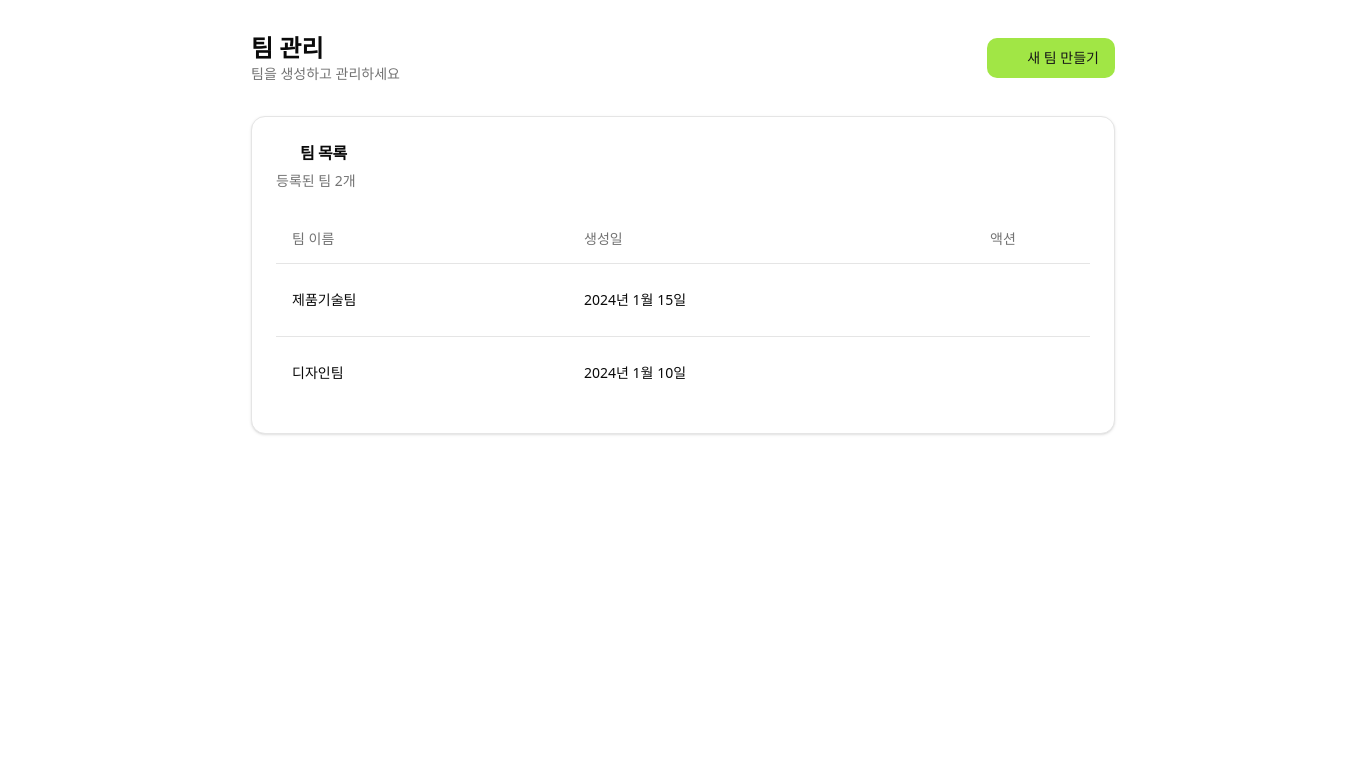
Test: TeamManagePage › Create Team Dialog › closes create dialog on cancel
Step 1. Click the button "새 팀 만들기" → (1051, 58), box 987,38 -> 1115,78
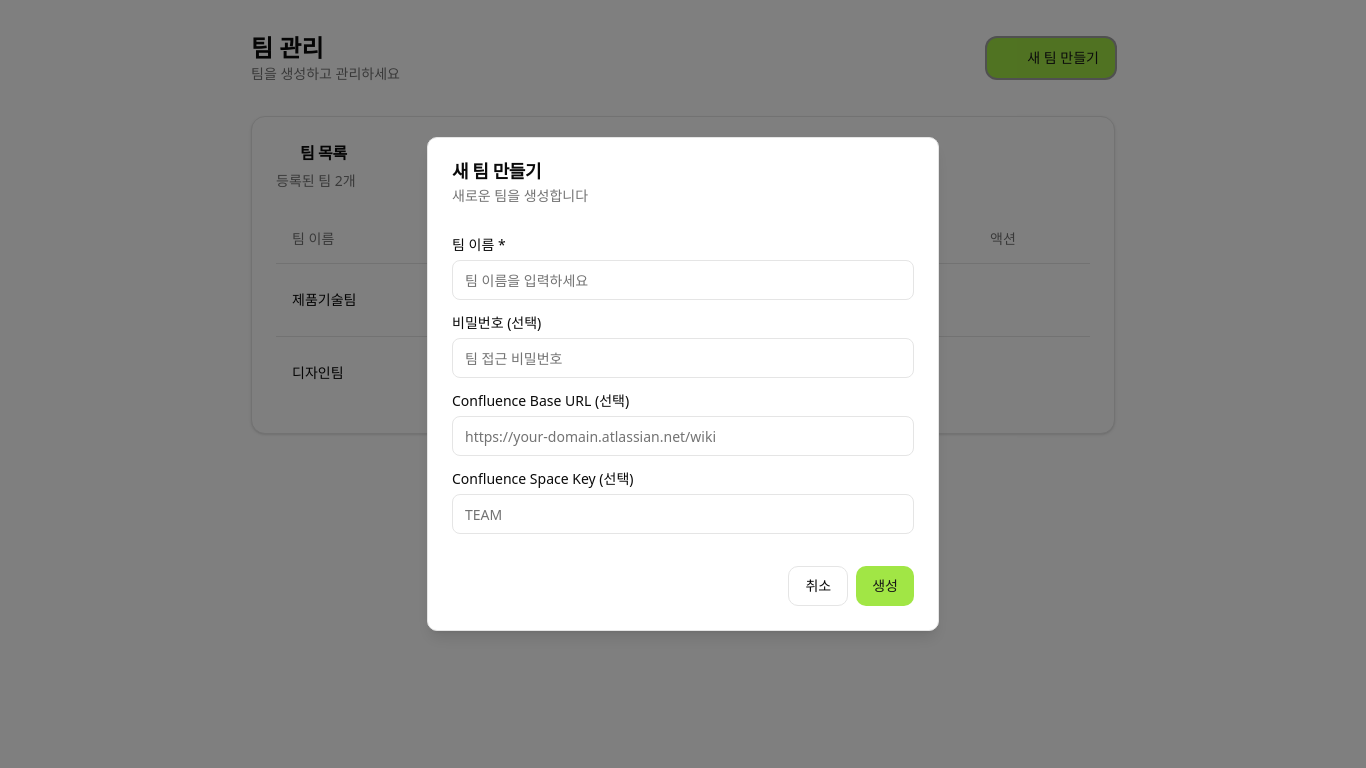
Step 2. Click the button "취소" → (818, 586), box 788,566 -> 848,606
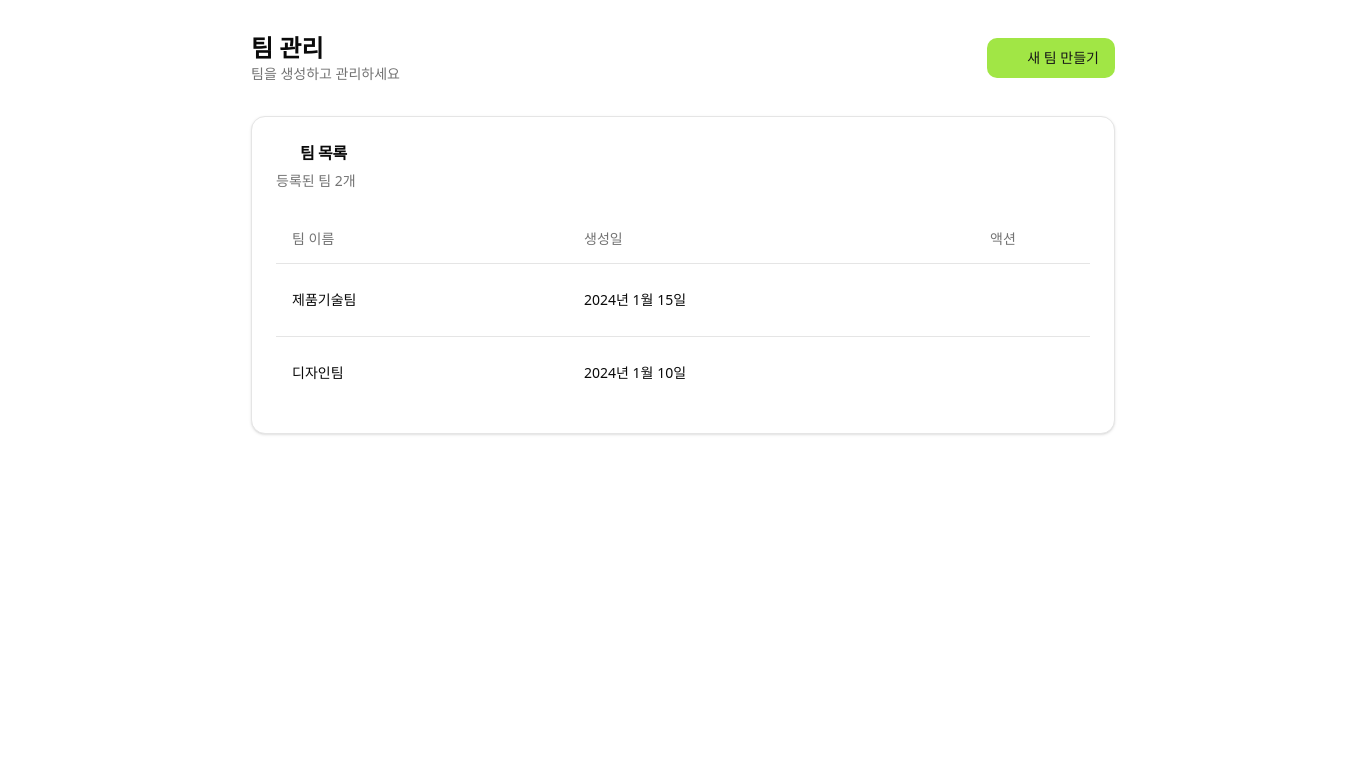
Check: the dialog is gone
